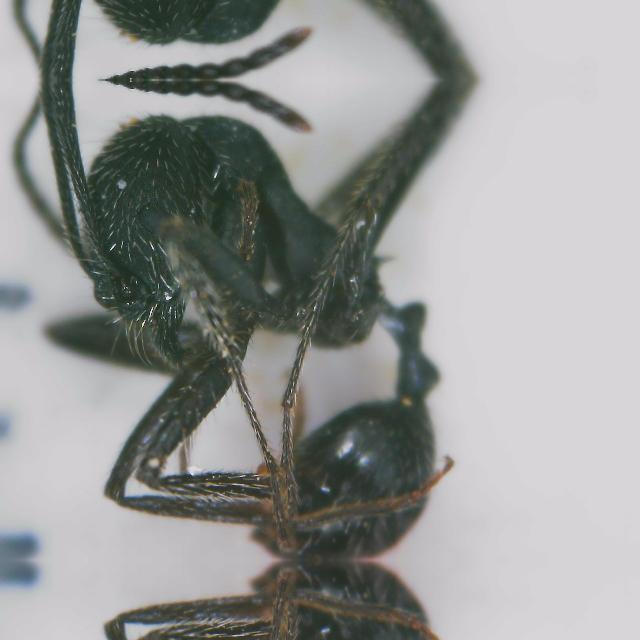Apheanogaster: (4, 80, 548, 546)
